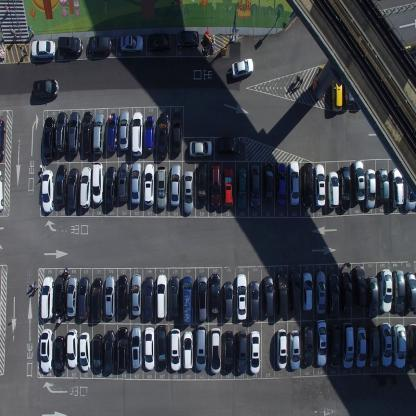car: (180, 274, 194, 326), (392, 322, 406, 368), (274, 272, 288, 317), (40, 275, 54, 319), (91, 160, 104, 206), (235, 272, 247, 321), (315, 318, 327, 367), (330, 68, 343, 113), (41, 168, 54, 213), (392, 268, 405, 313), (53, 274, 66, 319), (40, 328, 53, 373), (116, 326, 129, 371), (248, 330, 261, 375), (157, 112, 169, 160), (302, 161, 314, 209), (196, 274, 208, 322), (130, 324, 142, 372), (195, 324, 207, 372), (342, 320, 354, 368), (57, 34, 83, 56), (30, 38, 56, 60), (32, 78, 58, 100), (79, 165, 92, 209), (340, 272, 353, 316), (91, 275, 103, 322), (104, 328, 116, 375), (390, 168, 404, 208), (68, 111, 81, 154), (352, 159, 365, 202), (339, 166, 351, 212), (131, 111, 143, 157), (288, 160, 300, 206), (130, 160, 142, 206), (105, 165, 117, 211), (328, 272, 340, 318), (78, 274, 90, 320), (143, 326, 155, 372), (329, 322, 341, 368), (380, 321, 392, 367), (146, 31, 171, 53), (87, 34, 112, 56), (354, 326, 367, 368), (43, 116, 55, 161), (81, 110, 93, 155), (156, 164, 168, 209), (380, 267, 392, 312), (288, 270, 300, 315), (231, 56, 254, 79), (93, 111, 105, 155), (314, 163, 326, 207), (210, 163, 222, 207), (182, 170, 194, 214), (67, 167, 79, 211), (366, 274, 378, 318), (353, 264, 365, 308), (169, 328, 181, 372), (235, 330, 247, 374), (376, 167, 390, 204), (104, 273, 115, 320), (210, 327, 221, 374), (56, 111, 68, 154), (156, 272, 167, 318), (143, 275, 154, 321), (117, 273, 128, 319), (156, 324, 167, 370), (404, 169, 416, 211), (118, 108, 130, 150), (118, 161, 130, 203), (276, 328, 288, 370), (302, 324, 314, 366), (119, 34, 144, 54), (216, 135, 241, 155), (276, 162, 287, 207), (197, 162, 208, 207), (170, 162, 181, 207), (106, 112, 118, 153), (66, 276, 78, 317), (54, 335, 66, 376), (288, 329, 300, 370), (236, 166, 247, 210), (315, 270, 326, 314), (210, 272, 221, 316), (176, 29, 199, 50), (364, 169, 376, 209), (404, 272, 416, 312), (301, 271, 313, 311), (79, 330, 91, 370), (182, 330, 194, 370), (188, 139, 213, 158), (344, 65, 355, 108), (263, 275, 274, 318), (250, 161, 260, 208), (249, 280, 260, 322), (368, 326, 379, 368), (406, 322, 416, 368), (327, 170, 339, 208), (222, 166, 233, 207), (222, 280, 233, 321), (144, 162, 154, 207), (169, 274, 179, 319), (144, 114, 155, 154), (56, 164, 66, 208), (131, 272, 141, 316), (67, 328, 78, 368), (92, 334, 103, 374), (223, 330, 233, 374), (172, 111, 182, 154), (264, 162, 274, 203), (0, 120, 6, 162), (0, 168, 4, 214)
